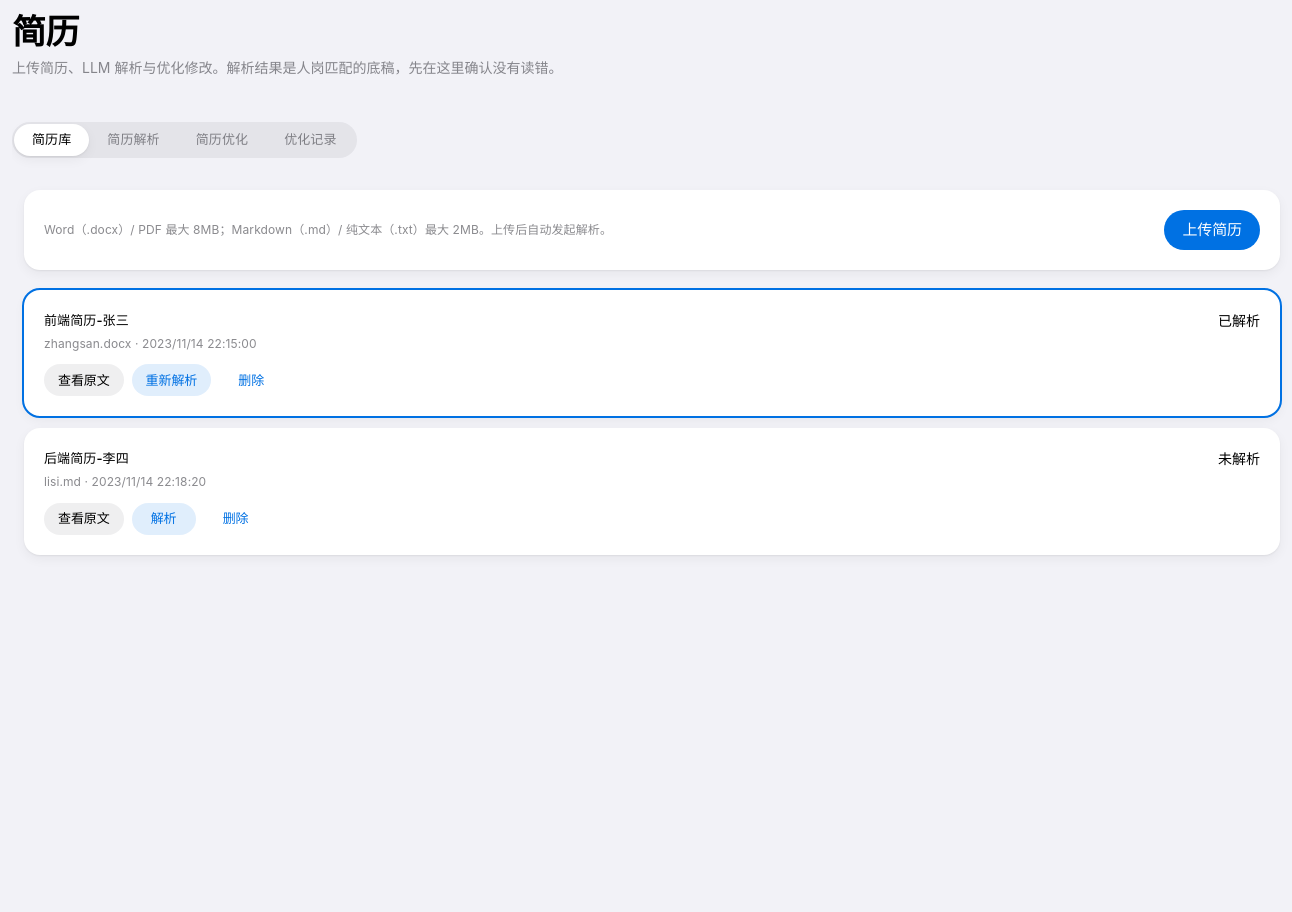
Test: ResumesPage 简历优化 › 目标范围只剩「爬取批次 + 搜索框」同一行，没有「全部职位」分段
Check: the button with aria-label "查看原文「前端简历-张三」" is shown, box [44, 364, 124, 396]
Click the radio button labelled "简历优化".
click(222, 140)  # box [178, 124, 266, 156]
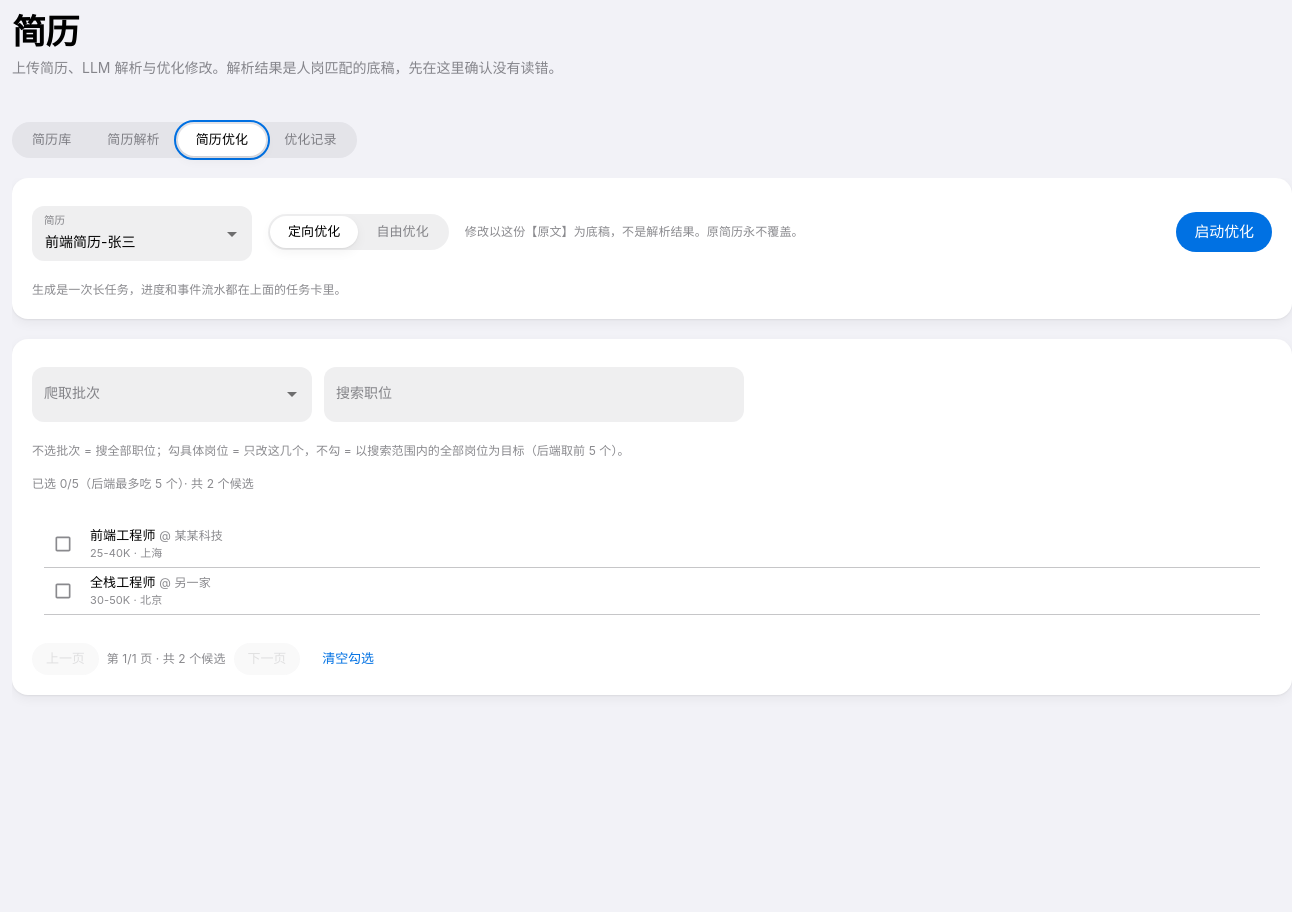
Check: the dropdown named "爬取批次" is shown, box [33, 368, 311, 421]
Check: the search field labelled "搜索职位" is shown, box [325, 368, 743, 421]
